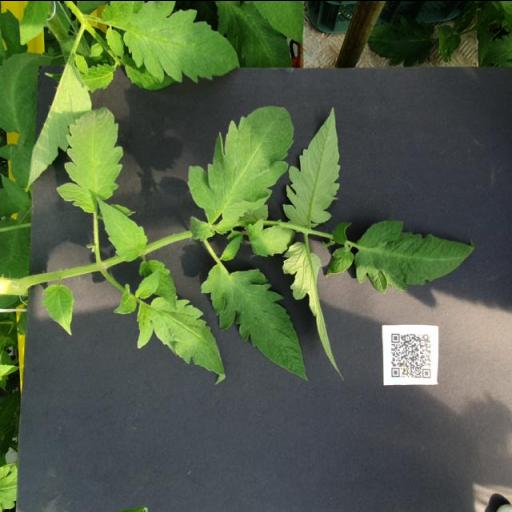Healthy: (200, 262, 308, 382), (187, 104, 295, 222), (100, 0, 240, 84), (354, 218, 474, 294), (137, 296, 226, 384), (56, 106, 124, 213), (283, 106, 341, 226), (96, 196, 148, 261), (42, 282, 76, 336)
